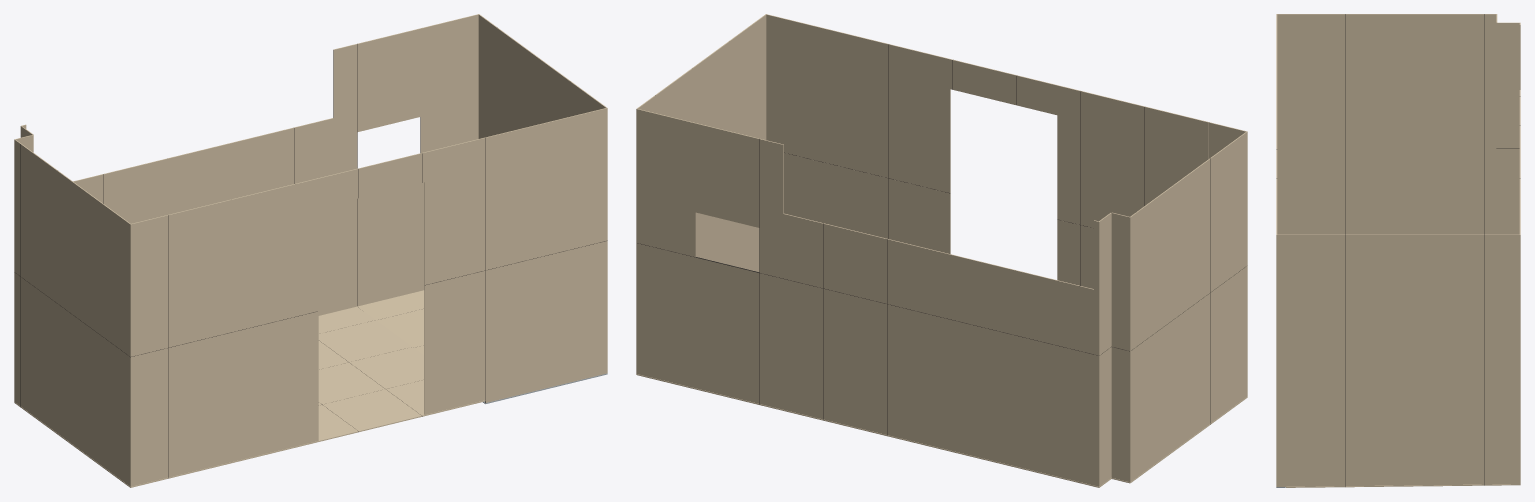
File: bathroom_107.glb
3 views of the same model, side by side, from view 1: azimuth 30°, elevation 25°; view 2: azimuth 150°, elevation 25°; view 3: azimuth 270°, elevation 25° (orthographic). The views are drawn at different scales.
Parts seen in each view (by area): view 1: wall_tile (×33), floor_tile (×9); view 2: wall_tile (×44); view 3: wall_tile (×19).
Part boxes in pixels (x1,y1,x2,y2): wall_tile (×33): (14, 14, 607, 486); floor_tile (×9): (295, 290, 485, 447); wall_tile (×44): (636, 14, 1247, 486); wall_tile (×19): (1276, 14, 1520, 486).
Size of the model in its own units: 4.5 by 2.4 by 2.1.
